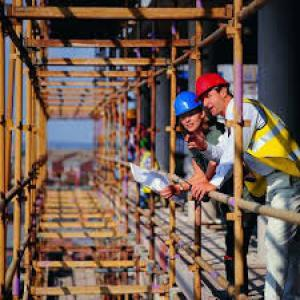blue: (173, 91, 205, 134)
red: (196, 72, 233, 122)
